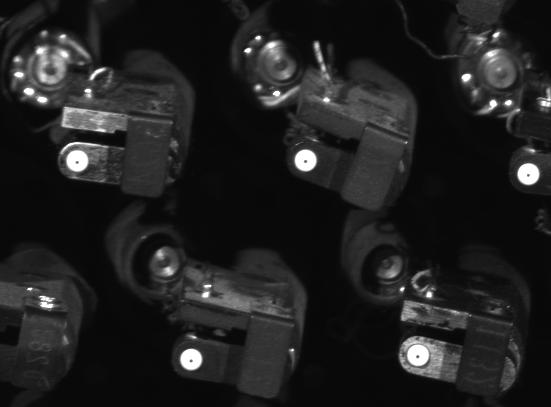fiber: (174, 344, 211, 376), (402, 341, 437, 372), (63, 143, 94, 176), (292, 145, 323, 176), (514, 160, 546, 187)
